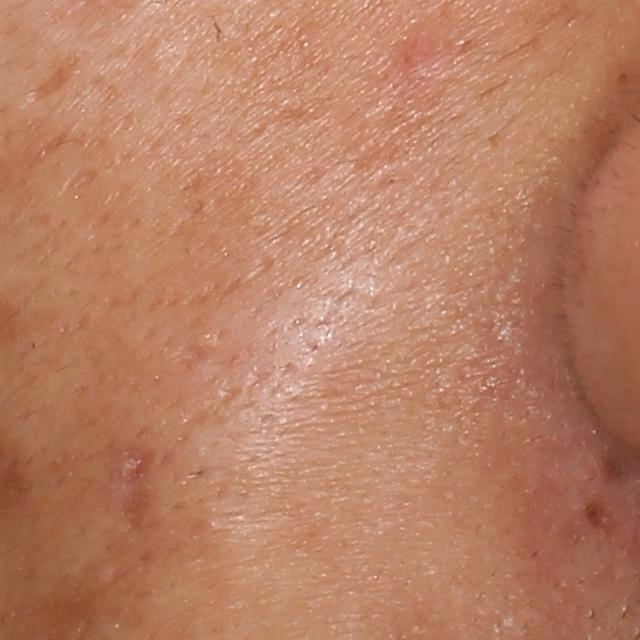atrophic_scar: (109, 440, 173, 532), (21, 62, 73, 107), (60, 167, 99, 193)
papule: (394, 38, 448, 91)
